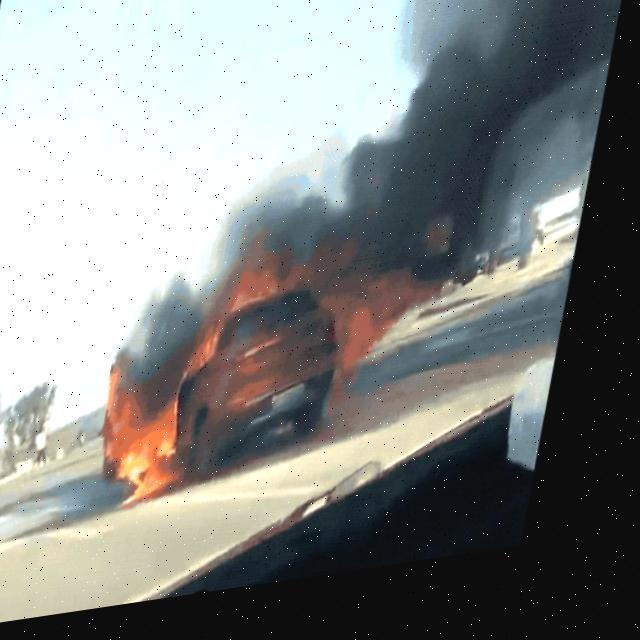Fire: (95, 240, 419, 510)
